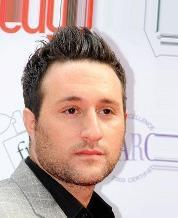face: (60, 94, 115, 164)
